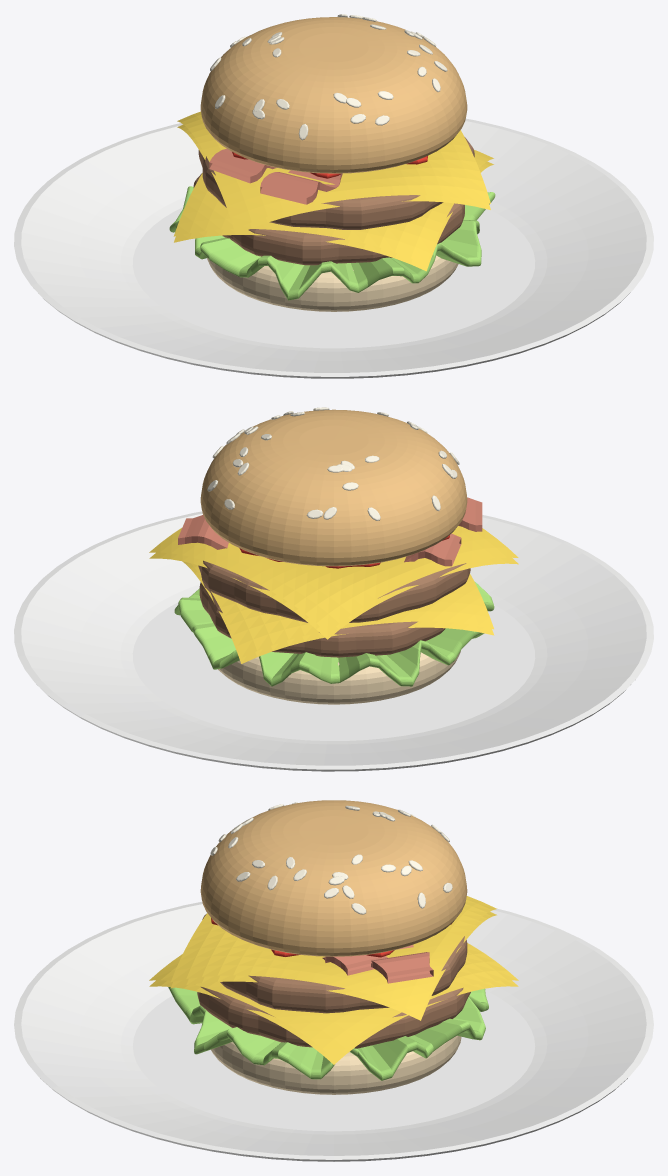
Rendered from double_bacon.glb.
3 views of the same model, one above another, from view 1: azimuth 30°, elevation 25°; view 2: azimuth 150°, elevation 25°; view 3: azimuth 270°, elevation 25° (orthographic).
Parts seen in each view (by area): view 1: plate, bun_top_0_0, cheese_1_0, lettuce_0_0, cheese_0_0, bun_bottom_0_0, beef_1_0, beef_0_0, bun_top_0_1, bacon_0_1, bacon_0_0; view 2: plate, bun_top_0_0, cheese_1_0, lettuce_0_0, cheese_0_0, bun_bottom_0_0, beef_1_0, beef_0_0, bun_top_0_1, bacon_0_0, bacon_0_1; view 3: plate, bun_top_0_0, cheese_1_0, lettuce_0_0, cheese_0_0, bun_bottom_0_0, beef_0_0, beef_1_0, bun_top_0_1, bacon_0_0, bacon_0_1.
Part boxes in pixels (x1=…): plate: x1=14, y1=118, x2=653, y2=378; bun_top_0_0: x1=200, y1=17, x2=467, y2=173; cheese_1_0: x1=177, y1=111, x2=490, y2=234; lettuce_0_0: x1=169, y1=186, x2=495, y2=300; cheese_0_0: x1=173, y1=150, x2=493, y2=271; bun_bottom_0_0: x1=207, y1=255, x2=458, y2=311; beef_1_0: x1=198, y1=137, x2=474, y2=229; beef_0_0: x1=193, y1=173, x2=464, y2=265; bun_top_0_1: x1=210, y1=14, x2=447, y2=140; bacon_0_1: x1=260, y1=170, x2=342, y2=204; bacon_0_0: x1=209, y1=148, x2=276, y2=183; plate: x1=14, y1=511, x2=653, y2=771; bun_top_0_0: x1=200, y1=409, x2=467, y2=566; cheese_1_0: x1=149, y1=526, x2=518, y2=639; lettuce_0_0: x1=174, y1=581, x2=494, y2=686; cheese_0_0: x1=182, y1=561, x2=494, y2=663; bun_bottom_0_0: x1=218, y1=651, x2=460, y2=704; beef_1_0: x1=198, y1=560, x2=470, y2=622; beef_0_0: x1=199, y1=582, x2=445, y2=657; bun_top_0_1: x1=207, y1=407, x2=459, y2=520; bacon_0_0: x1=178, y1=515, x2=461, y2=566; bacon_0_1: x1=458, y1=497, x2=482, y2=531; plate: x1=14, y1=901, x2=653, y2=1161; bun_top_0_0: x1=200, y1=800, x2=467, y2=956; cheese_1_0: x1=170, y1=896, x2=496, y2=1020; lettuce_0_0: x1=168, y1=987, x2=488, y2=1080; cheese_0_0: x1=149, y1=943, x2=518, y2=1064; bun_bottom_0_0: x1=211, y1=1035, x2=461, y2=1094; beef_0_0: x1=197, y1=987, x2=470, y2=1048; beef_1_0: x1=202, y1=914, x2=467, y2=1013; bun_top_0_1: x1=210, y1=802, x2=452, y2=914; bacon_0_0: x1=371, y1=945, x2=433, y2=983; bacon_0_1: x1=322, y1=955, x2=387, y2=975.
Size of the model in its own units: 0.264 by 0.1051 by 0.264.
